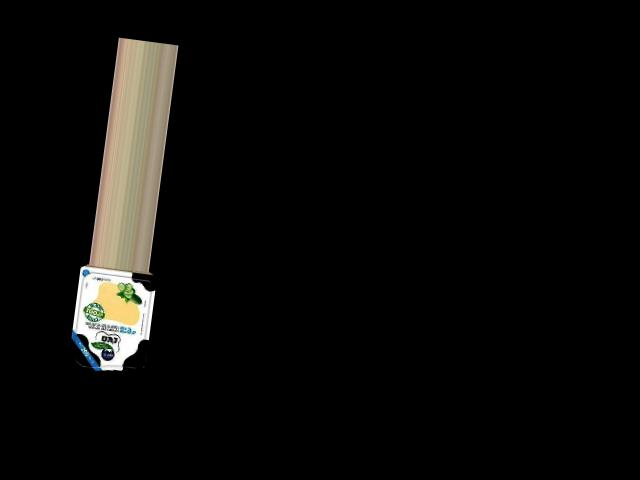cheese: (63, 261, 161, 376)
